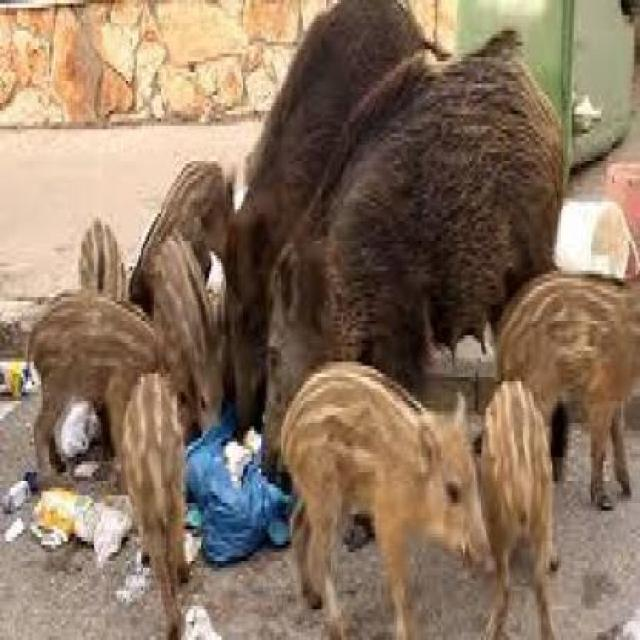wildboar: (252, 20, 570, 506), (203, 0, 439, 449), (266, 354, 503, 640), (481, 254, 640, 520), (17, 276, 188, 509), (118, 138, 247, 364), (472, 372, 566, 640), (115, 360, 197, 640), (147, 227, 235, 459), (67, 198, 136, 434)
